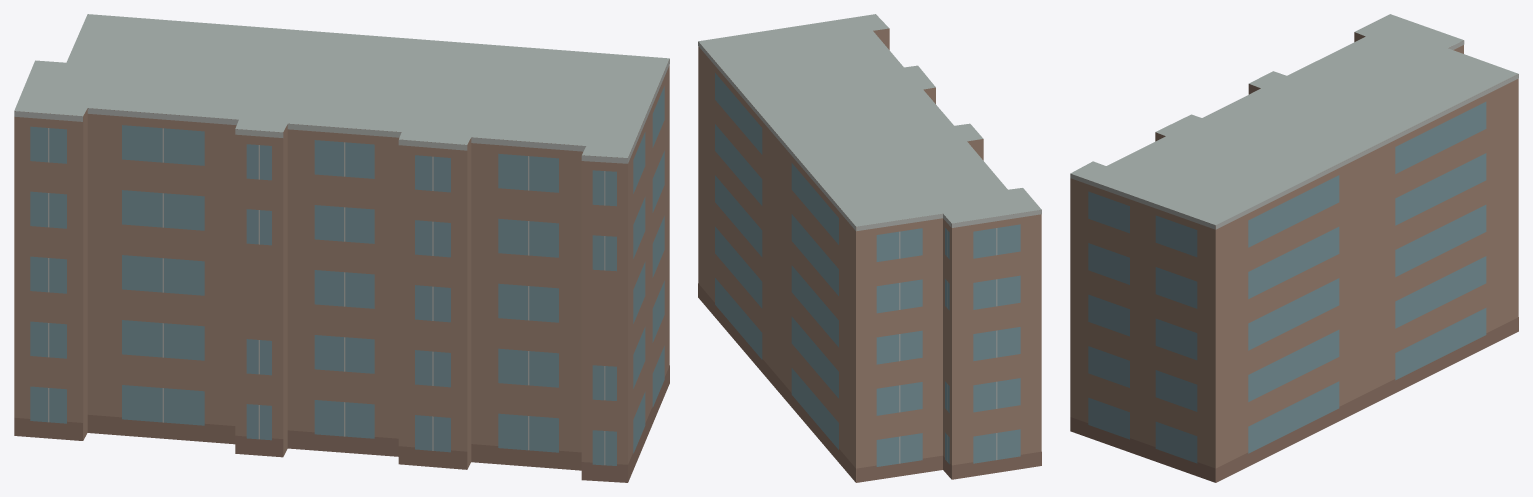
Rendered from survey-upis-32708750.glb.
The picture shows the model from 3 angles, left to right: view 1: azimuth 30°, elevation 25°; view 2: azimuth 150°, elevation 25°; view 3: azimuth 270°, elevation 25°; orthographic projection. The views are drawn at different scales.
Visible parts, largest first — view 1: survey-upis-32708750.tmp; view 2: survey-upis-32708750.tmp; view 3: survey-upis-32708750.tmp.
Boxes of the visible parts, box(x1,y1,x2,y2) form: survey-upis-32708750.tmp: box(14, 14, 669, 482); survey-upis-32708750.tmp: box(698, 14, 1041, 482); survey-upis-32708750.tmp: box(1070, 14, 1518, 482).
Bounding box in the file's own units: 24.27 × 13.8 × 21.78.
